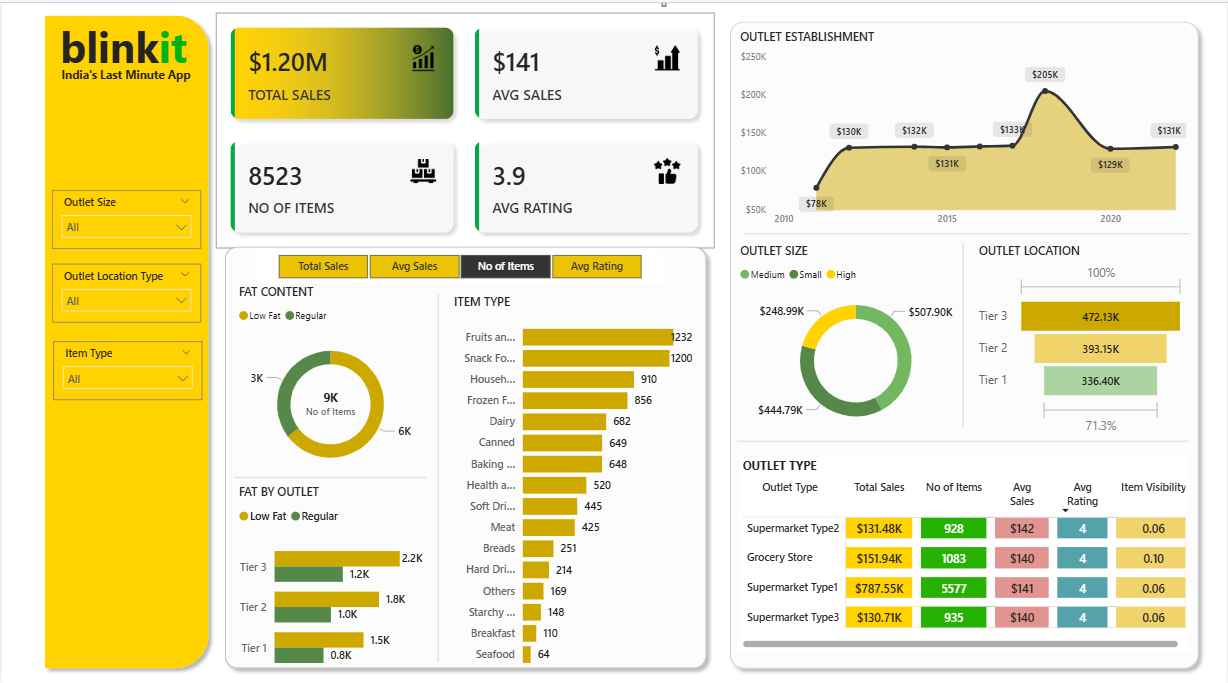

The dashboard page shown, as its layout file describes it:
{"tool":"powerbi","page":{"name":"Page 1","canvas":[1400,800],"ordinal":0},"visuals":[{"type":"shape","box":[40.2,25.5,205.1,764.1],"z":0},{"type":"textbox","box":[61.4,32.2,176.9,91.2],"z":1000},{"type":"textbox","box":[63,89,163.5,29.5],"z":2000},{"type":"cardVisual","fields":{"Data":["BlinkIT Grocery Data.Total Sales","BlinkIT Grocery Data.Avg Sales","BlinkIT Grocery Data.No of Items","BlinkIT Grocery Data.Avg Rating"]},"box":[244.6,31.6,569.7,269.8],"z":3000},{"type":"shape","box":[245.3,289.5,568.4,500],"z":4000},{"type":"donutChart","title":"FAT CONTENT","fields":{"Y":["BlinkIT Grocery Data.No of Items"],"Category":["BlinkIT Grocery Data.Item Fat Content"]},"box":[265.4,341.8,219.8,230.6],"z":5000},{"type":"slicer","fields":{"Values":["Metrics.Metrics"]},"box":[289.5,301.6,465.1,40.2],"z":6000},{"type":"cardVisual","fields":{"Data":["BlinkIT Grocery Data.No of Items"]},"box":[329.8,445,91.2,61.7],"z":7000},{"type":"clusteredBarChart","title":"FAT BY OUTLET","fields":{"Y":["BlinkIT Grocery Data.No of Items"],"Category":["BlinkIT Grocery Data.Outlet Location Type"],"Series":["BlinkIT Grocery Data.Item Fat Content"]},"box":[265.4,569.7,219.8,230.6],"z":8000},{"type":"shape","box":[265.4,552.3,219.8,20.1],"z":9000},{"type":"shape","box":[485.3,352.5,25.5,420.9],"z":10000},{"type":"barChart","title":"ITEM TYPE","fields":{"Y":["BlinkIT Grocery Data.No of Items"],"Category":["BlinkIT Grocery Data.Item Type"]},"box":[510.7,352.5,282.8,437],"z":11000},{"type":"shape","box":[823.1,32.2,553.6,757.4],"z":12000},{"type":"lineChart","title":"OUTLET ESTABLISHMENT","fields":{"Category":["BlinkIT Grocery Data.Outlet Establishment Year"],"Y":["BlinkIT Grocery Data.Total Sales"]},"box":[839.1,49.6,520.1,234.6],"z":13000},{"type":"shape","box":[840.5,510.7,516.1,20.1],"z":14000},{"type":"donutChart","title":"OUTLET SIZE","fields":{"Y":["BlinkIT Grocery Data.Total Sales"],"Category":["BlinkIT Grocery Data.Outlet Size"]},"box":[839.1,294.9,274.8,225.2],"z":15000},{"type":"shape","box":[1085.8,294.9,25.5,211.8],"z":16000},{"type":"funnel","title":"OUTLET LOCATION","fields":{"Y":["Sum(BlinkIT Grocery Data.Sales)"],"Category":["BlinkIT Grocery Data.Outlet Location Type"]},"box":[1111.3,294.9,245,225],"z":17000},{"type":"shape","box":[848.5,274.8,508,20.1],"z":18000},{"type":"pivotTable","title":"OUTLET TYPE","fields":{"Rows":["BlinkIT Grocery Data.Outlet Type"],"Values":["BlinkIT Grocery Data.Total Sales","BlinkIT Grocery Data.No of Items","BlinkIT Grocery Data.Avg Sales","BlinkIT Grocery Data.Avg Rating","Avg(BlinkIT Grocery Data.Item Visibility)"]},"box":[841.8,540.2,516.1,222.5],"z":19000},{"type":"slicer","fields":{"Values":["BlinkIT Grocery Data.Outlet Location Type"]},"box":[57.6,319,170.2,67],"z":20000},{"type":"slicer","fields":{"Values":["BlinkIT Grocery Data.Item Type"]},"box":[59,407.5,170.2,67],"z":21000},{"type":"slicer","fields":{"Values":["BlinkIT Grocery Data.Outlet Size"]},"box":[57.6,234.6,170.2,67],"z":22000}]}

Visuals, with their boxes in screenshot pixels (x1, y1, x2, y2), scaled from the page's 1400x800 canvas onto the 1228x683 screenshot:
shape: <bbox>35, 22, 215, 674</bbox>
textbox: <bbox>54, 27, 209, 105</bbox>
textbox: <bbox>55, 76, 199, 101</bbox>
cardVisual - BlinkIT Grocery Data.Total Sales x BlinkIT Grocery Data.Avg Sales: <bbox>215, 27, 714, 257</bbox>
shape: <bbox>215, 247, 714, 674</bbox>
"FAT CONTENT" donutChart: <bbox>233, 292, 426, 489</bbox>
slicer - Metrics.Metrics: <bbox>254, 257, 662, 292</bbox>
cardVisual - BlinkIT Grocery Data.No of Items: <bbox>289, 380, 369, 433</bbox>
"FAT BY OUTLET" clusteredBarChart: <bbox>233, 486, 426, 682</bbox>
shape: <bbox>233, 472, 426, 489</bbox>
shape: <bbox>426, 301, 448, 660</bbox>
"ITEM TYPE" barChart: <bbox>448, 301, 696, 674</bbox>
shape: <bbox>722, 27, 1208, 674</bbox>
"OUTLET ESTABLISHMENT" lineChart: <bbox>736, 42, 1192, 243</bbox>
shape: <bbox>737, 436, 1190, 453</bbox>
"OUTLET SIZE" donutChart: <bbox>736, 252, 977, 444</bbox>
shape: <bbox>952, 252, 975, 433</bbox>
"OUTLET LOCATION" funnel: <bbox>975, 252, 1190, 444</bbox>
shape: <bbox>744, 235, 1190, 252</bbox>
"OUTLET TYPE" pivotTable: <bbox>738, 461, 1191, 651</bbox>
slicer - BlinkIT Grocery Data.Outlet Location Type: <bbox>51, 272, 200, 330</bbox>
slicer - BlinkIT Grocery Data.Item Type: <bbox>52, 348, 201, 405</bbox>
slicer - BlinkIT Grocery Data.Outlet Size: <bbox>51, 200, 200, 257</bbox>
